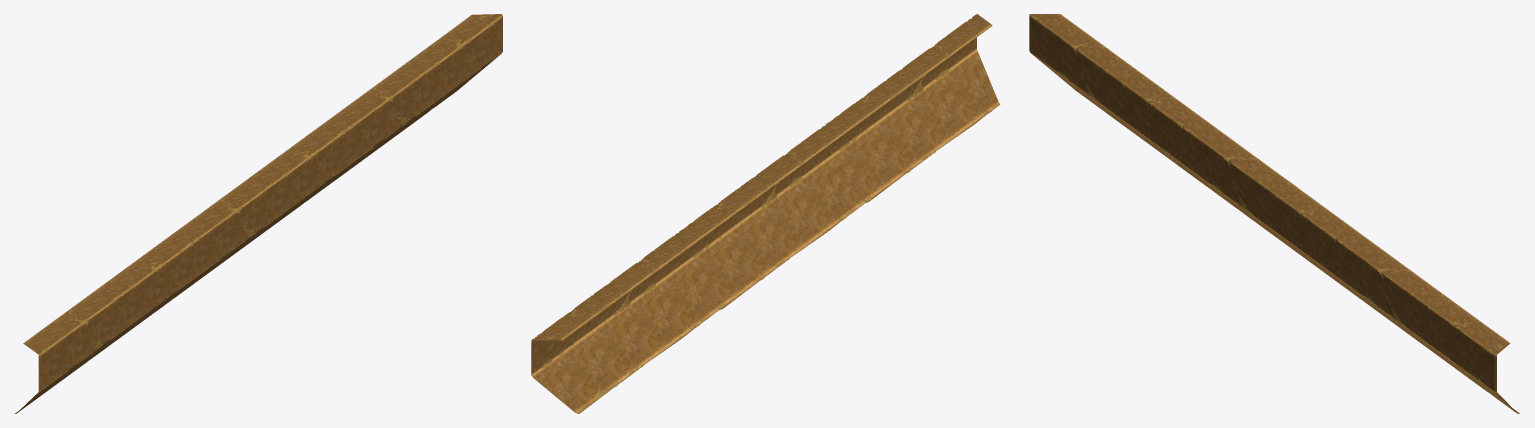
3 renders of one model, left to right at view 1: azimuth 30°, elevation 25°; view 2: azimuth 210°, elevation 25°; view 3: azimuth 270°, elevation 25°, orthographic. The views are drawn at different scales.
Parts seen in each view (by area): view 1: SM_Nightmare_Crucible_Arena_BorderF_01v1_LOD0; view 2: SM_Nightmare_Crucible_Arena_BorderF_01v1_LOD0; view 3: SM_Nightmare_Crucible_Arena_BorderF_01v1_LOD0.
Part boxes in pixels (<box>): SM_Nightmare_Crucible_Arena_BorderF_01v1_LOD0: <box>14,14,502,413</box>; SM_Nightmare_Crucible_Arena_BorderF_01v1_LOD0: <box>531,14,1000,413</box>; SM_Nightmare_Crucible_Arena_BorderF_01v1_LOD0: <box>1029,14,1519,413</box>.
Size of the model in its own units: 121 by 12.76 by 73.61.
Materials: 2 (2 with a texture image).
